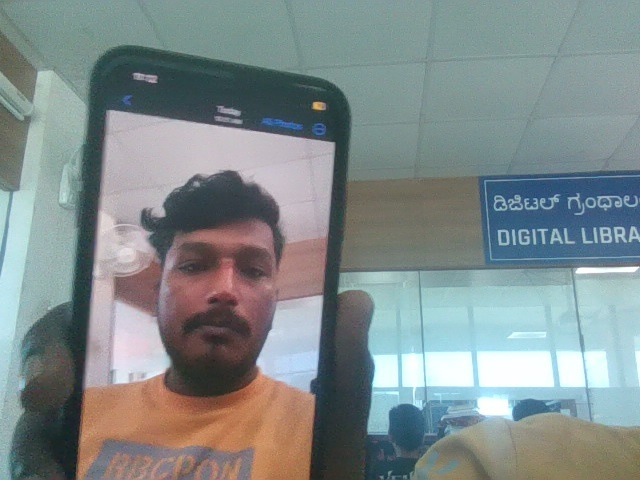fake: (136, 153, 302, 389)
